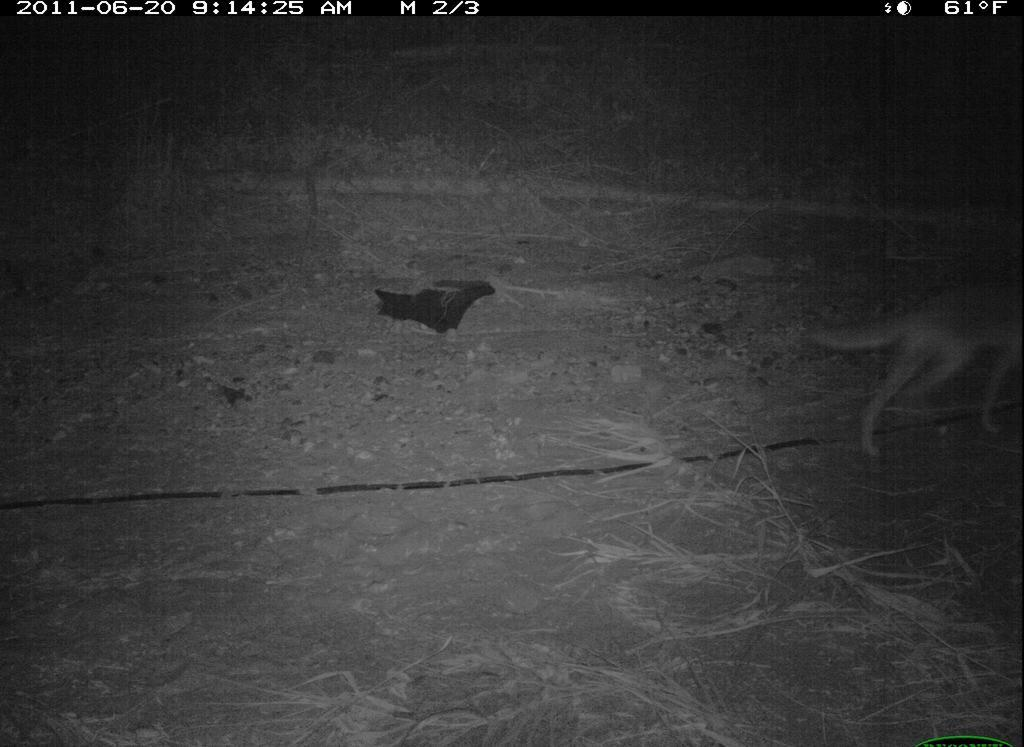coyote: (795, 254, 1008, 481)
